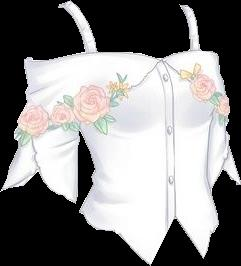Bodice: (14, 49, 230, 264)
Neckline: (25, 49, 213, 62)
Sleeve: (0, 122, 79, 203), (207, 111, 240, 190)
Sleeveline: (16, 123, 78, 140), (213, 111, 228, 117)
Waistline: (13, 60, 227, 138), (77, 212, 220, 265), (30, 136, 75, 203), (0, 168, 38, 192), (210, 167, 240, 188)
